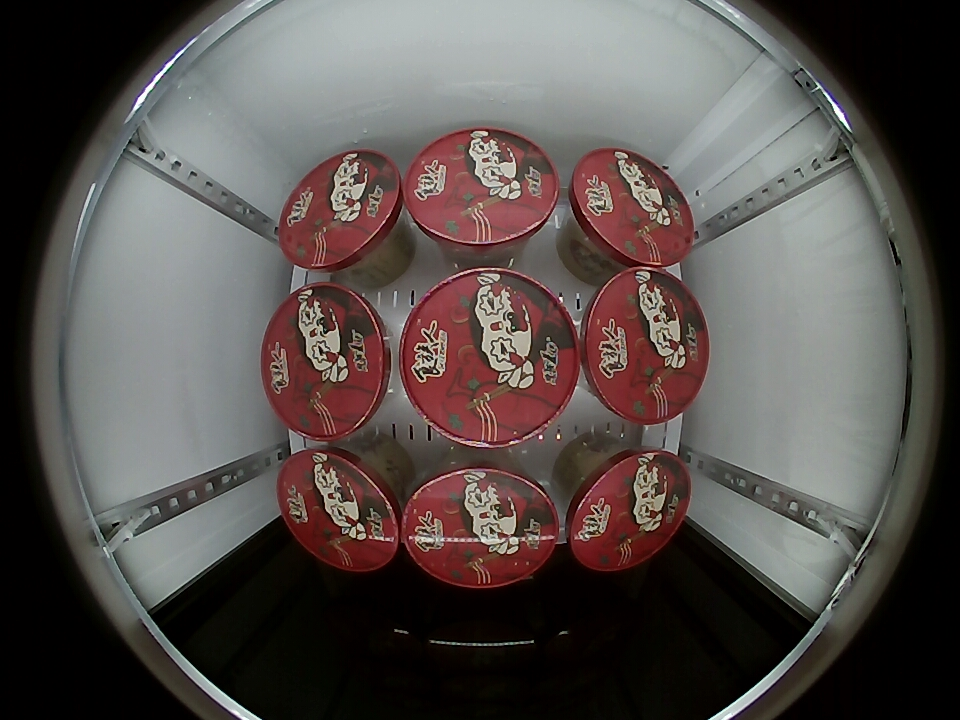suanlafen: (398, 266, 581, 450), (262, 281, 394, 441), (401, 458, 560, 588), (579, 268, 710, 424), (403, 128, 560, 258), (277, 446, 405, 572), (278, 149, 406, 274), (564, 447, 693, 571), (567, 148, 695, 268)
